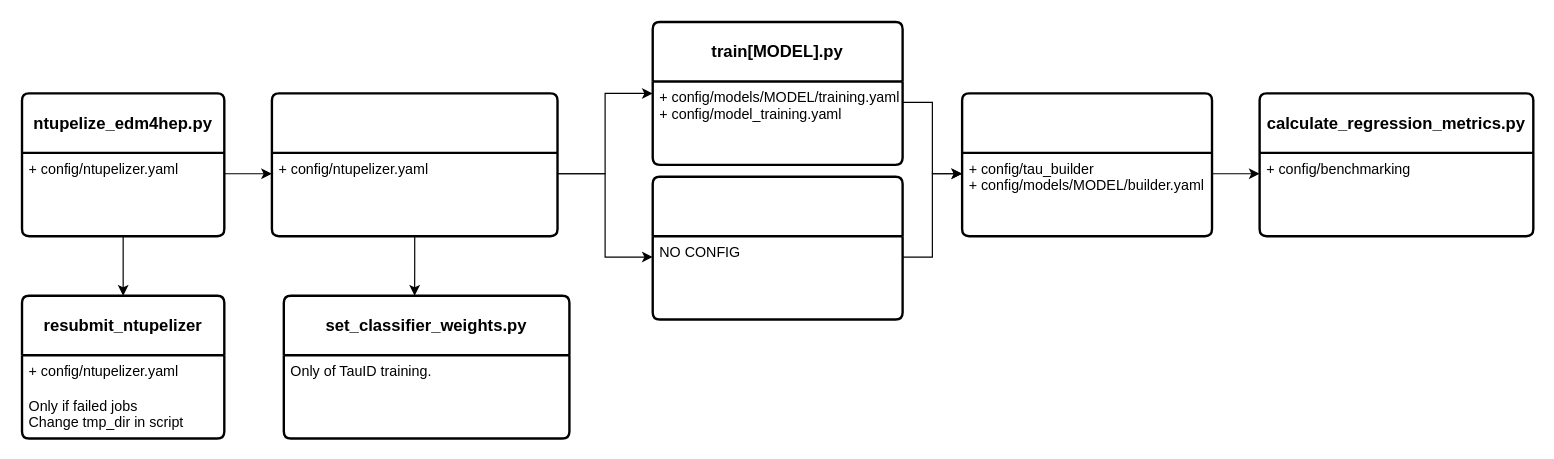
The diagram is 1554 pixels wide and 459 high, and some of its shapes have lost their labels. Each missing label, with the box of its shape:
runBuilder.py: (960, 92, 1213, 237)
split_to_independent_datasets.py: (270, 92, 558, 237)
train-pytorch-gpu.sh: (651, 175, 903, 320)
